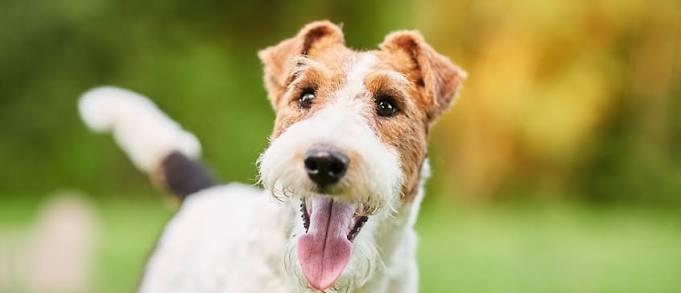adult_dog: (79, 18, 467, 293)
